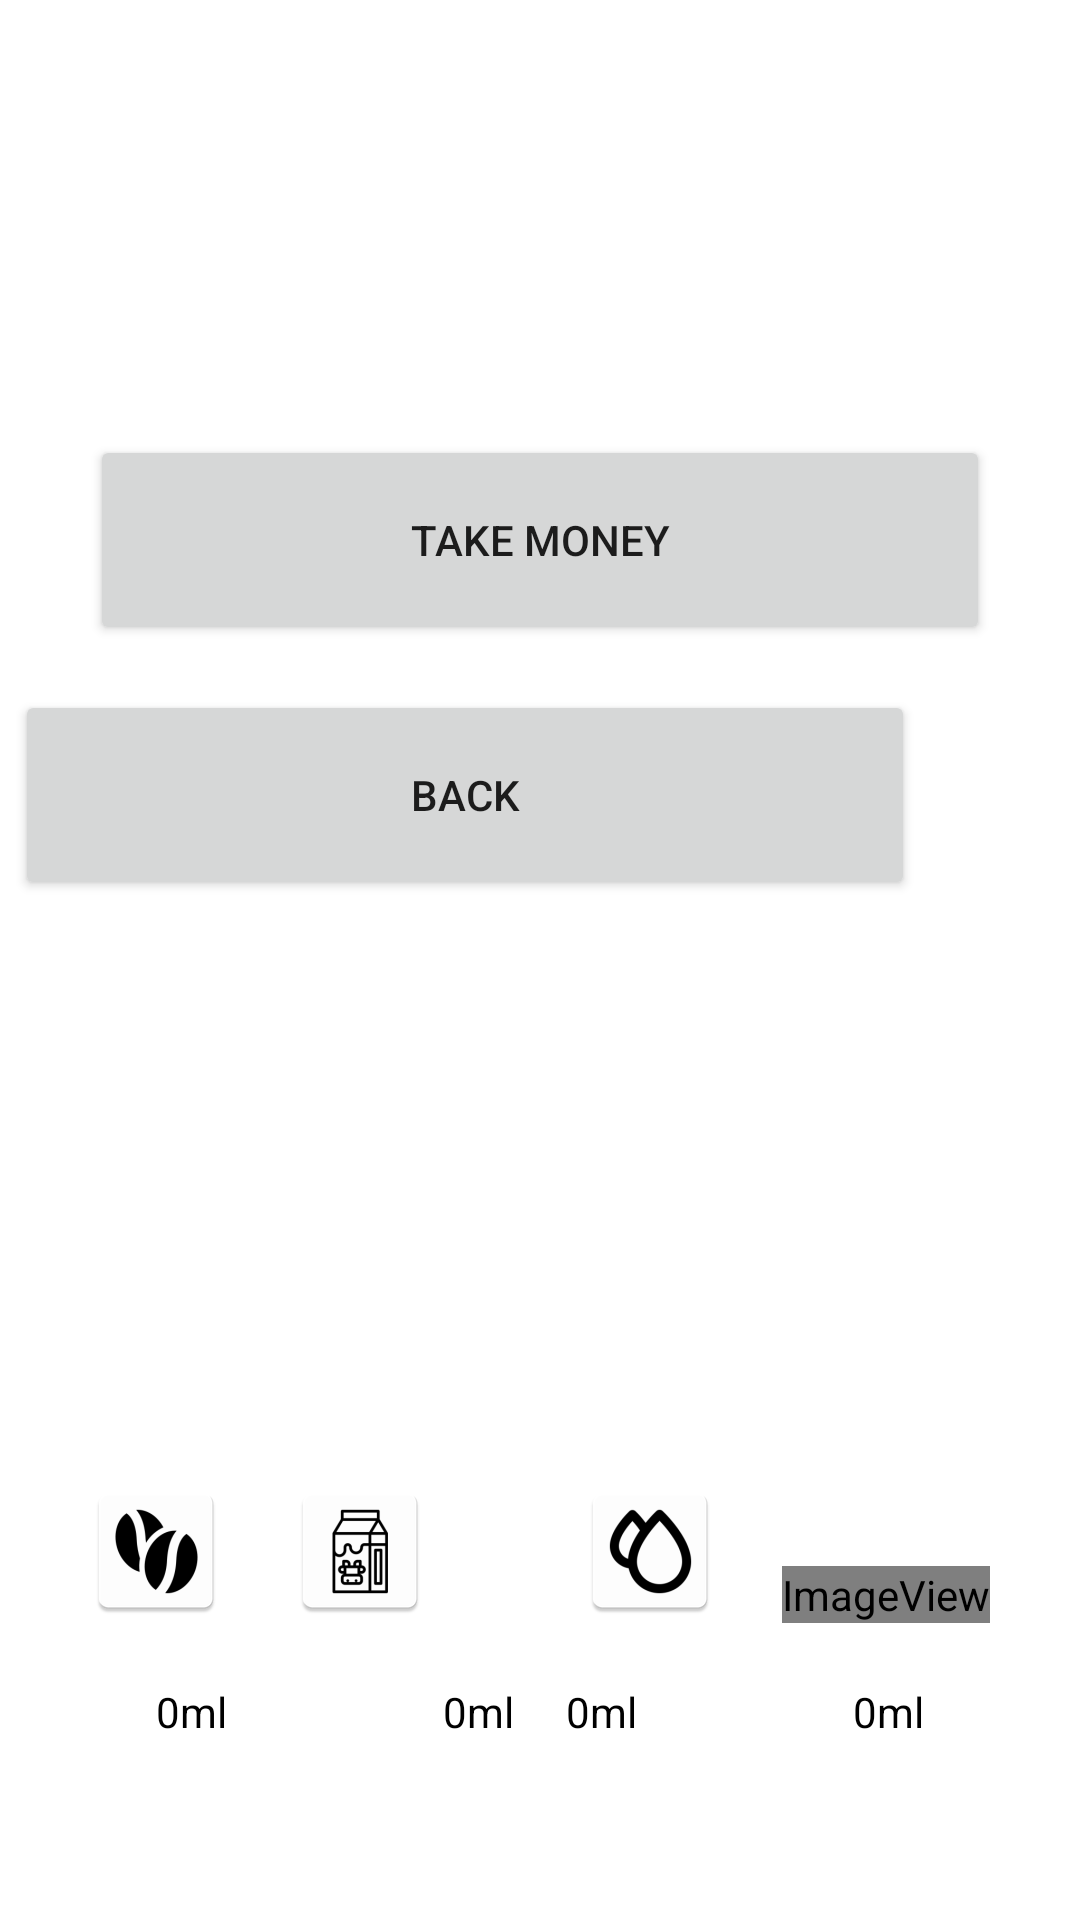

Icons on this 1080×1920 Android screen, each with the point to tap as (x=x, y=y):
coffee beans: (x=156, y=1556)
milk: (x=360, y=1556)
water: (x=650, y=1556)
